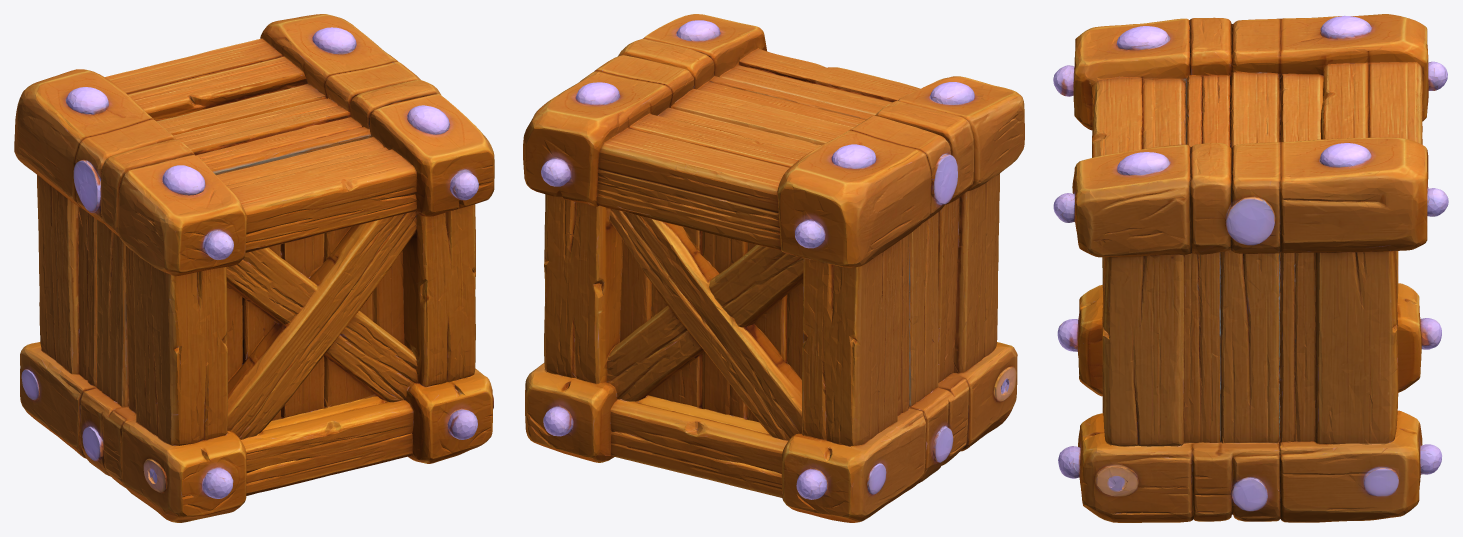
The model's file is wooden_crate.fbx.
3 views of the same model, side by side, from view 1: azimuth 30°, elevation 25°; view 2: azimuth 150°, elevation 25°; view 3: azimuth 270°, elevation 25° (orthographic). The views are drawn at different scales.
Visible parts, largest first — view 1: world; view 2: world; view 3: world.
Part boxes in pixels (bbox=[...]): world: bbox=[14, 14, 494, 522]; world: bbox=[523, 14, 1024, 522]; world: bbox=[1053, 14, 1448, 522].
Bounding box in the file's own units: 199 × 196 × 190.
1 material, 1 textured.
